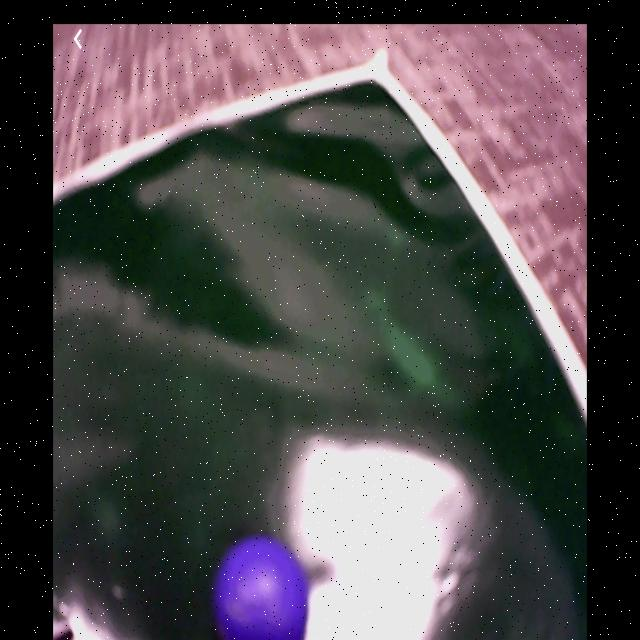ball: (218, 539, 305, 638)
